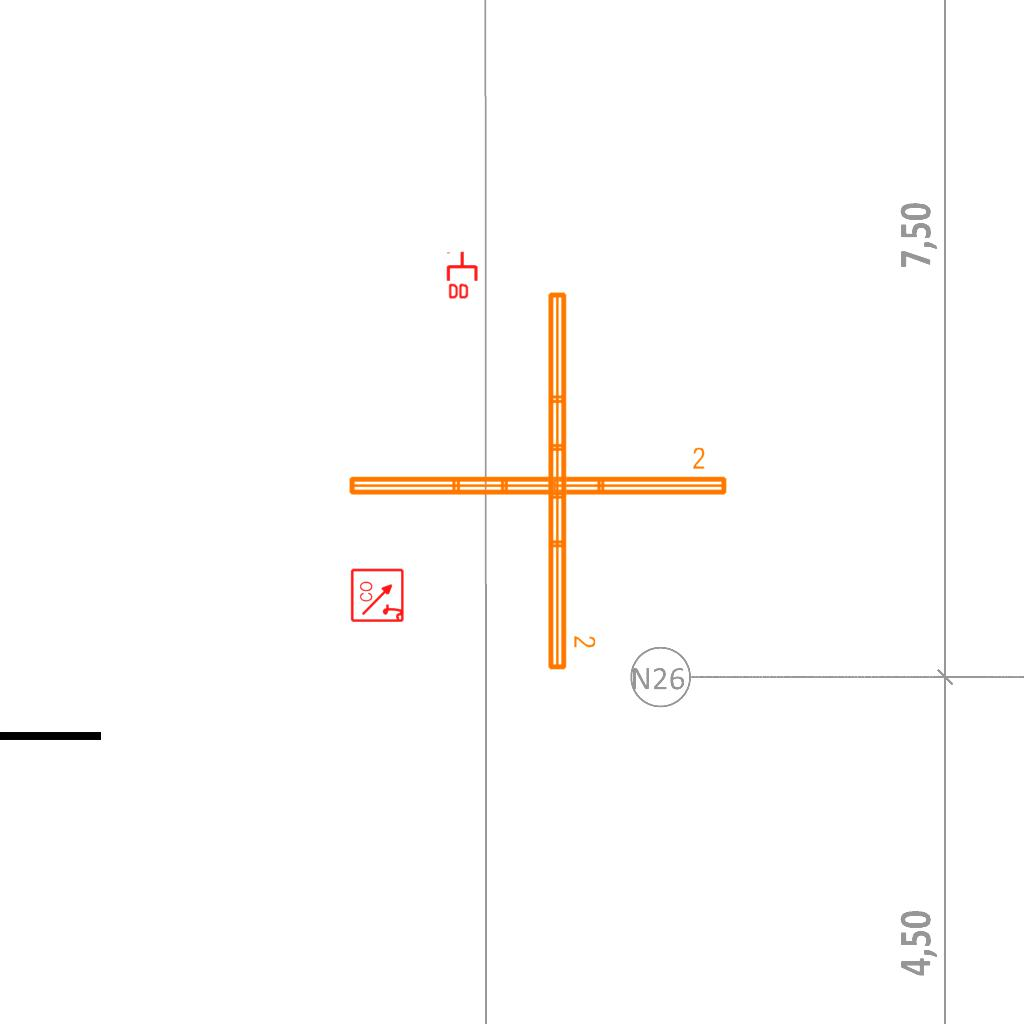Ambulanz_Pendelleuchte_LED: (344, 445, 731, 501), (542, 287, 598, 674)
Datenanschluss_zweifach: (446, 250, 480, 301)
ROA_Rauchmelder_optisch_mit_Signalgeber_(Sockelsirene): (350, 567, 406, 623)
